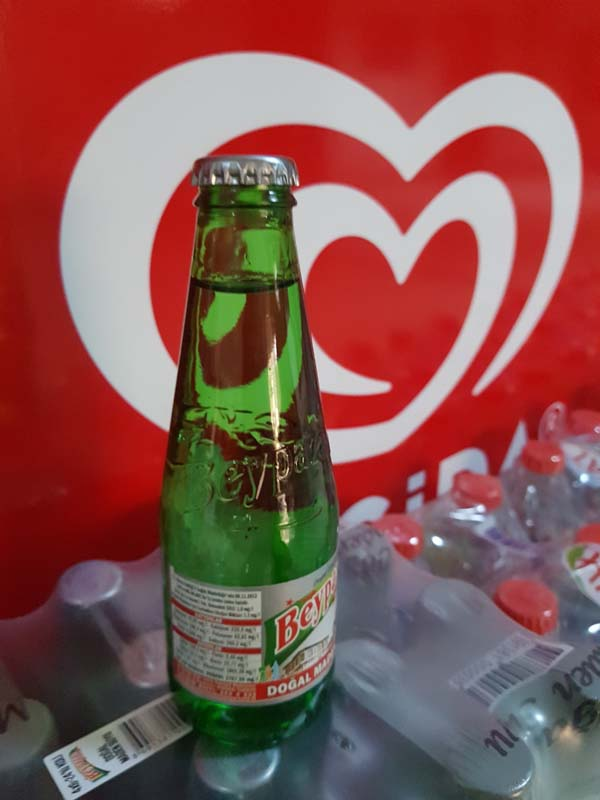beypazarimadensuyu: (156, 148, 347, 755)
